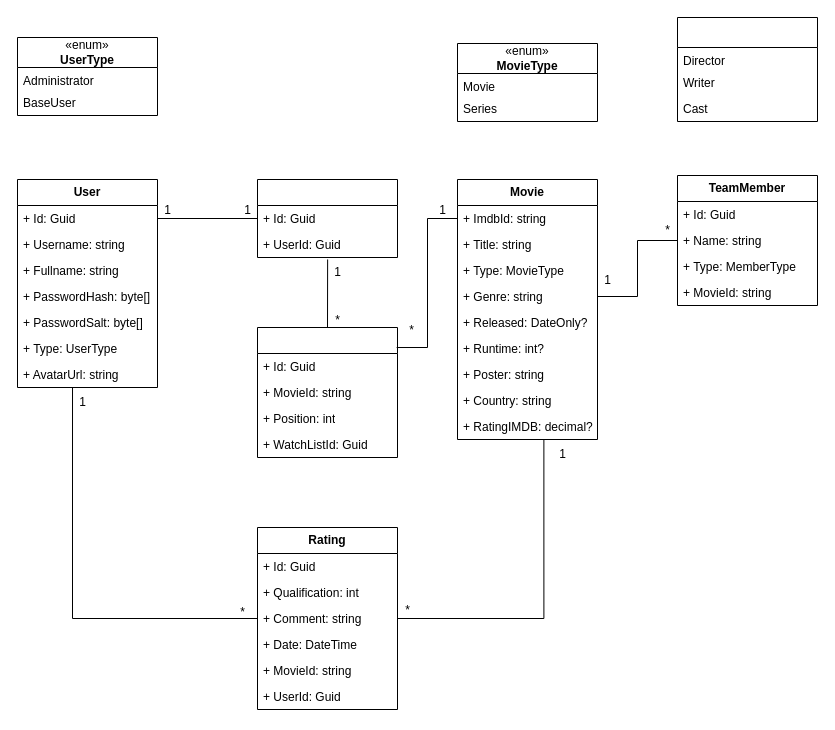
This 835x730 diagram has some shape labels left out. Here are the shapes that lost their labels. From the top down, the box of each, then its label:
(676, 16, 818, 122): «enum» MemberType
(256, 178, 398, 258): WatchList
(256, 326, 398, 458): WatchListItem
